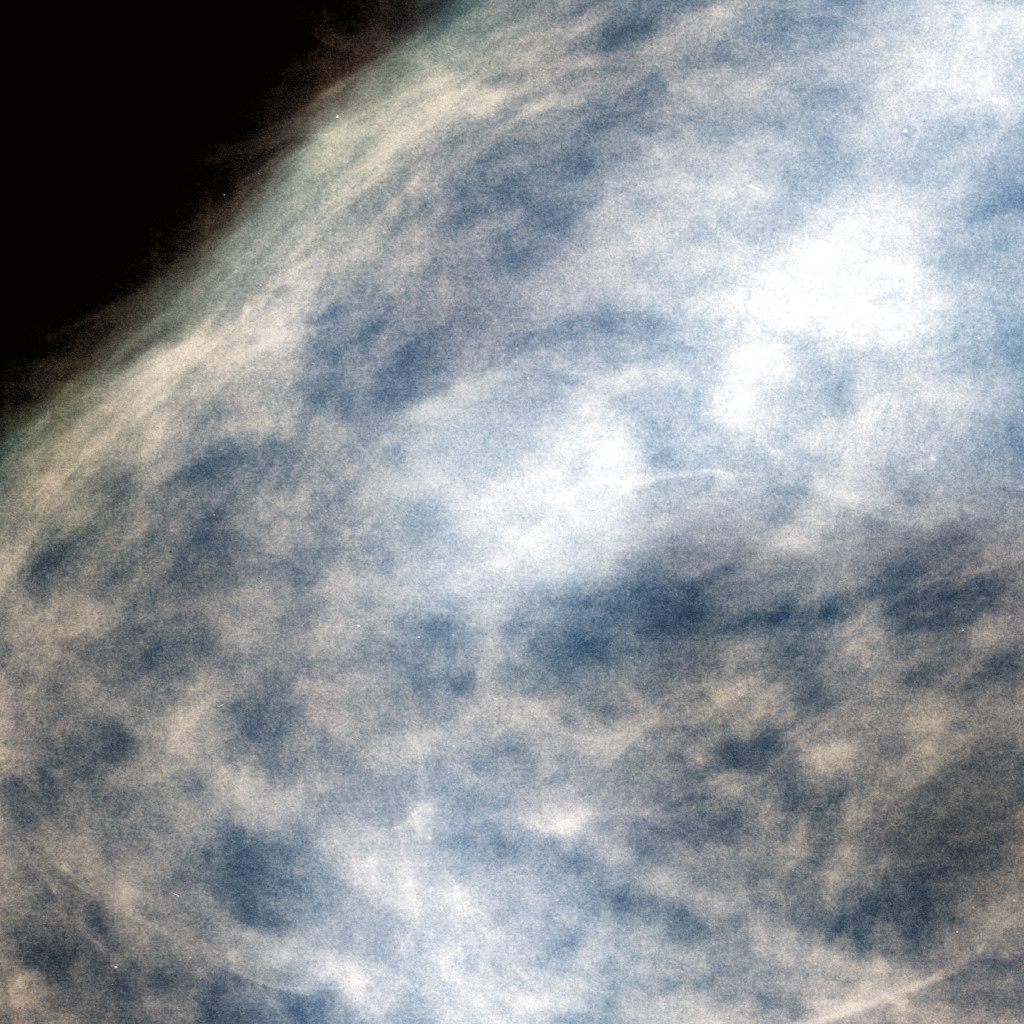tumor: (356, 363, 668, 661)
